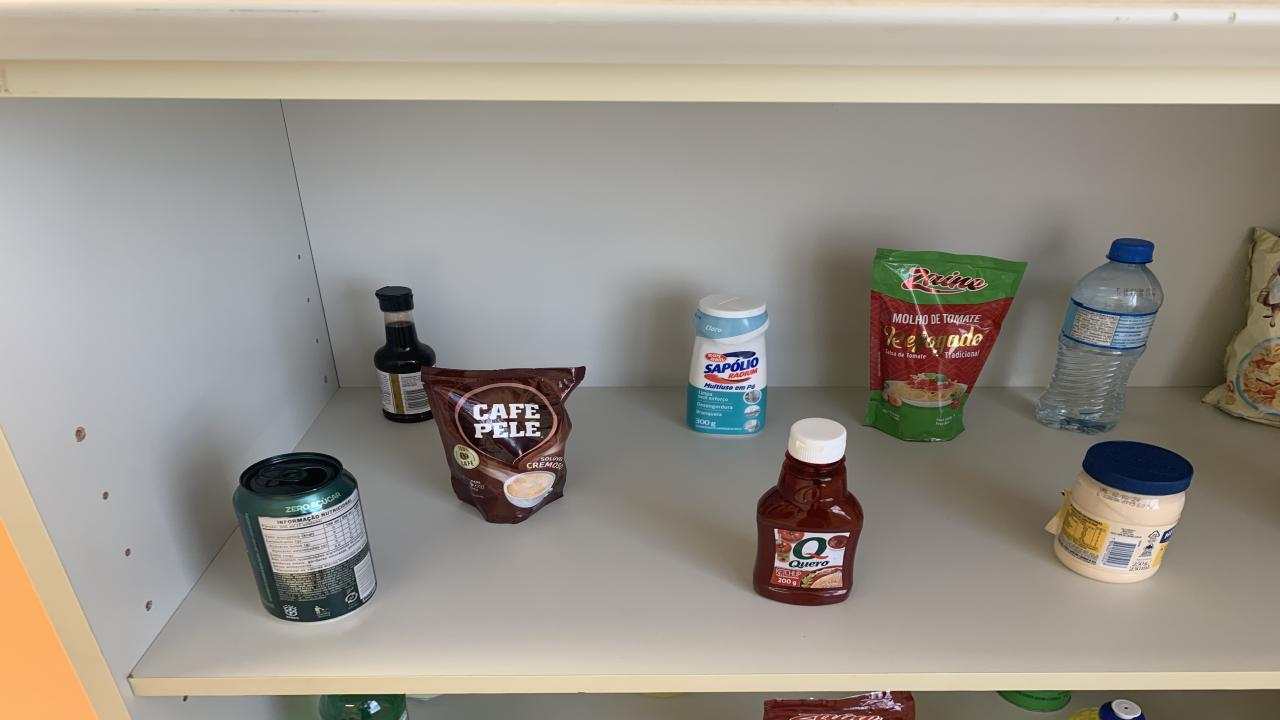Cleaner-Cleanup_Items: (688, 292, 770, 435)
Coffee-Pantry_Items: (420, 368, 585, 523)
Detergent-Cleanup_Items: (318, 694, 408, 720), (1070, 699, 1145, 720)
English_Sauce-Pantry_Items: (375, 287, 435, 424)
Flakes-Snacks: (1202, 229, 1280, 428)
Guarana_Can-Drinks: (232, 452, 378, 622)
Ketchup-Pantry_Items: (755, 418, 862, 606)
Mayonnaise-Pantry_Items: (1048, 441, 1195, 583)
Tomato_Sauce-Pantry_Items: (865, 249, 1028, 441), (762, 692, 915, 720)
Water_Bottle-Drinks: (1038, 238, 1162, 433)
